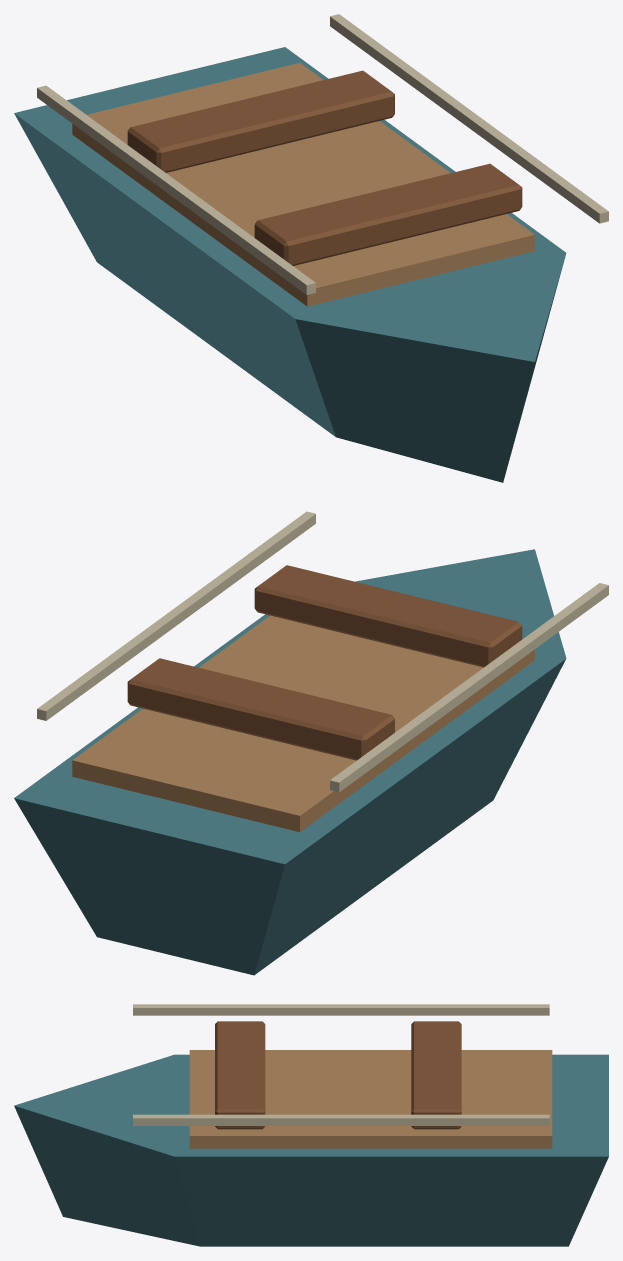
Rendered from vessel_rowboat.glb.
The picture shows the model from 3 angles, top to bottom: view 1: azimuth 30°, elevation 25°; view 2: azimuth 150°, elevation 25°; view 3: azimuth 270°, elevation 25°; orthographic projection. The views are drawn at different scales.
Parts seen in each view (by area): view 1: vessel_rowboat; view 2: vessel_rowboat; view 3: vessel_rowboat.
Part boxes in pixels (bbox=[...]): vessel_rowboat: bbox=[14, 14, 608, 482]; vessel_rowboat: bbox=[14, 511, 608, 975]; vessel_rowboat: bbox=[14, 1004, 608, 1246].
Size of the model in its own units: 1.45 by 0.9225 by 3.2.
